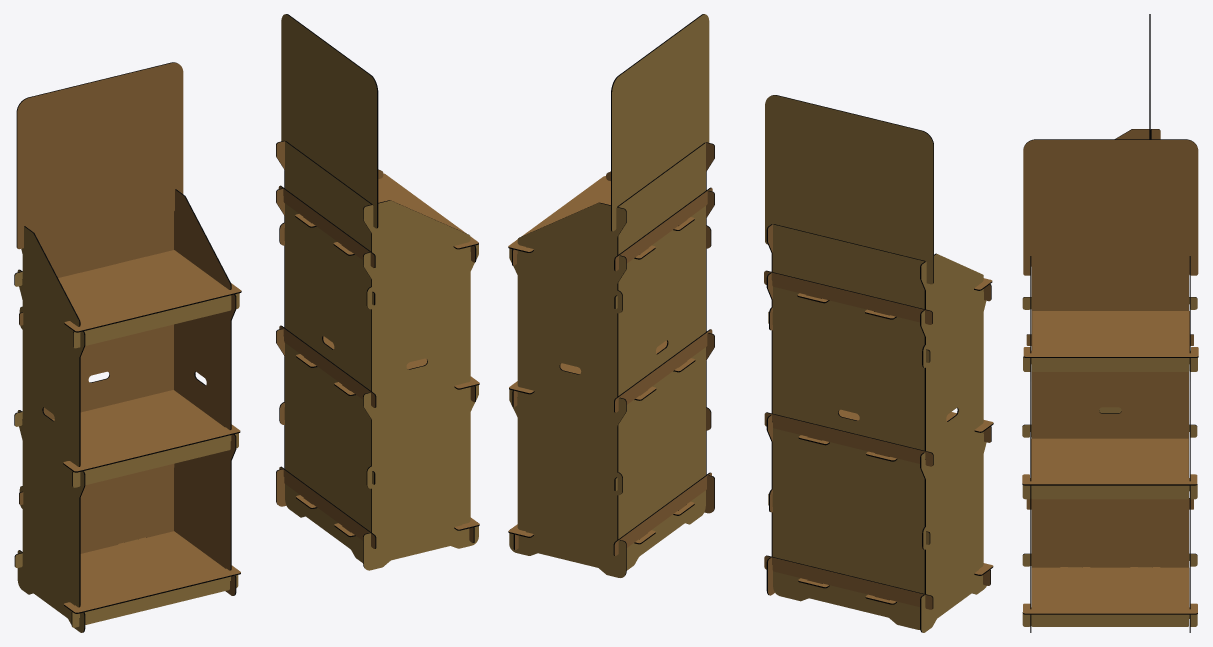
File: TroquelMuebleMadera.gltf
The picture shows the model from 3 angles, left to right: view 1: azimuth 30°, elevation 25°; view 2: azimuth 150°, elevation 25°; view 3: azimuth 270°, elevation 25°; orthographic projection. The views are drawn at different scales.
Visible parts, largest first — view 1: TQ_ARD_D13-node, TQ_ARD_D13-node.001; view 2: TQ_ARD_D13-node, TQ_ARD_D13-node.001; view 3: TQ_ARD_D13-node.001, TQ_ARD_D13-node.
Boxes of the visible parts, x1,y1,x2,y2 form: TQ_ARD_D13-node: (14,62,241,632); TQ_ARD_D13-node.001: (276,14,479,570); TQ_ARD_D13-node: (764,95,993,632); TQ_ARD_D13-node.001: (508,14,714,577); TQ_ARD_D13-node.001: (1022,139,1198,632); TQ_ARD_D13-node: (1099,14,1160,413).
Size of the model in its own units: 1.67 by 1.98 by 0.7054.
